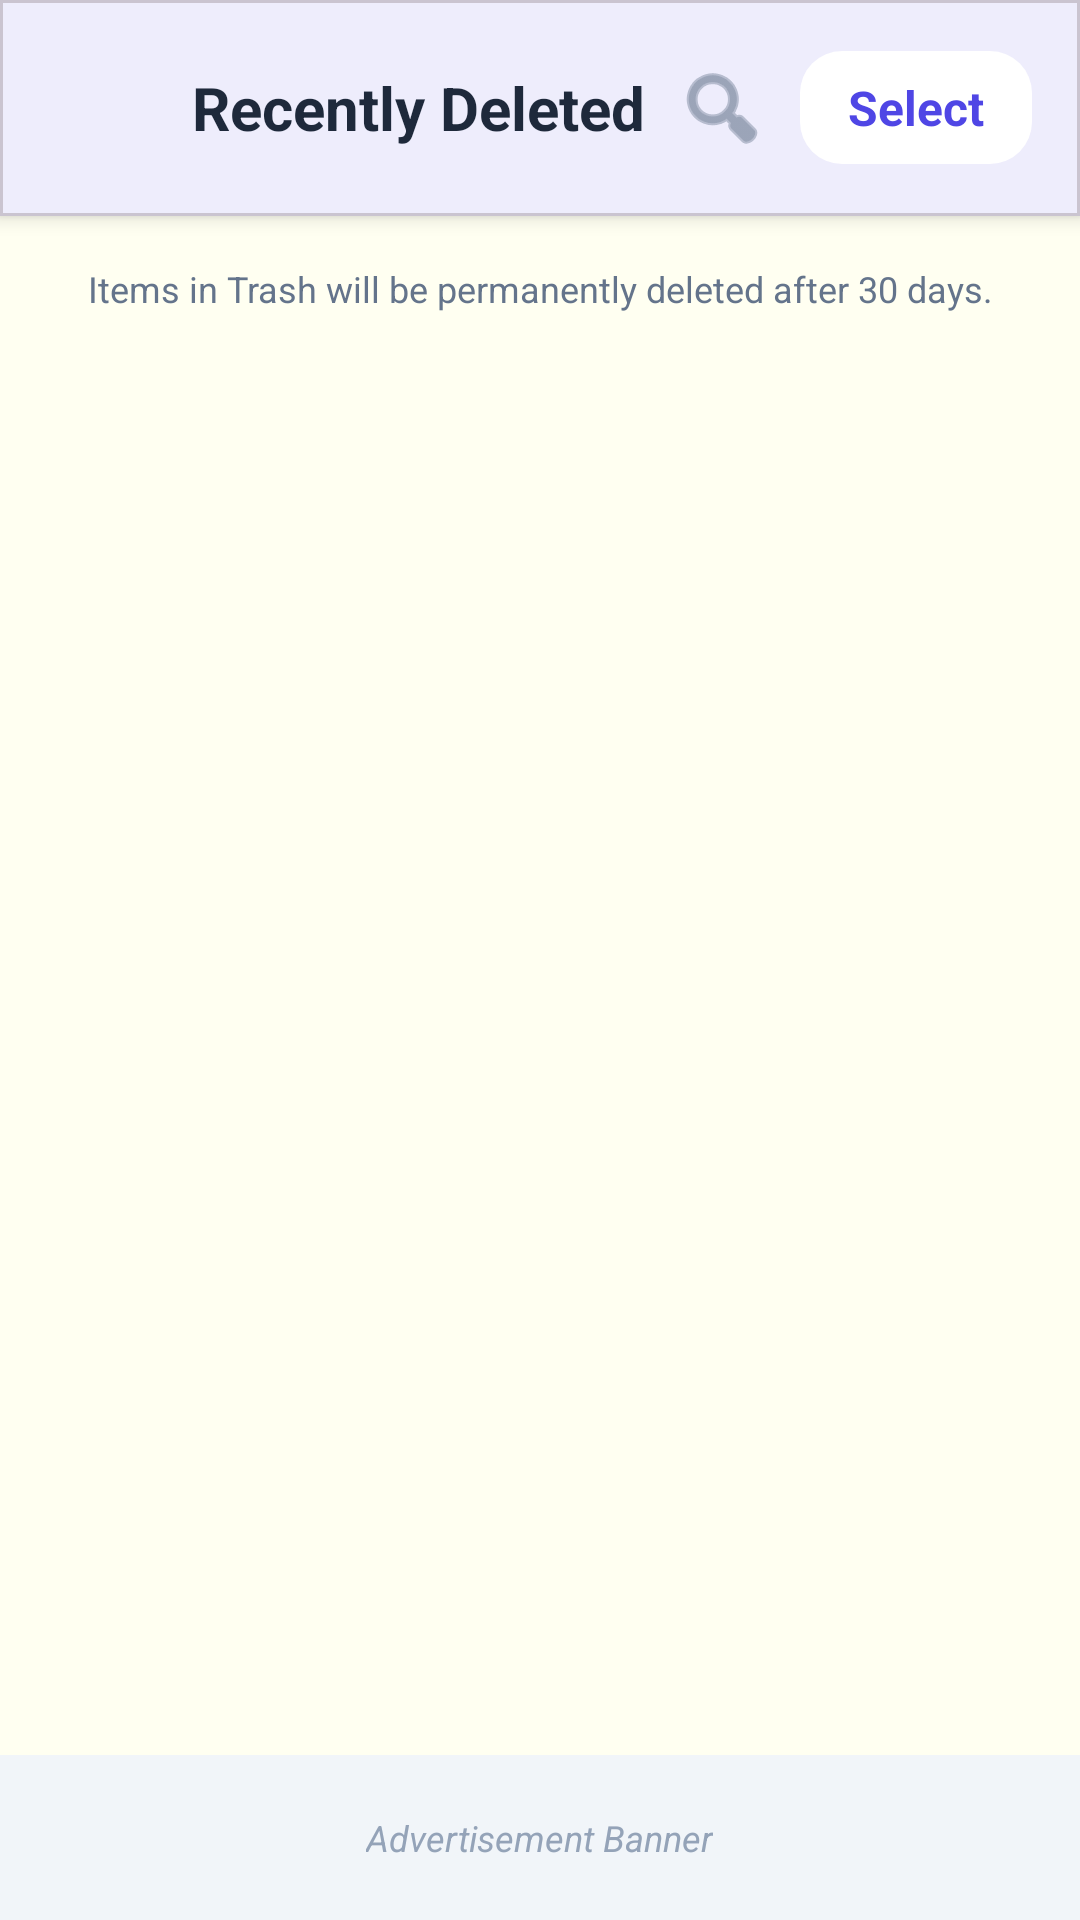

Where to tap for icons on this 1080w x 1920h app screen, as [x,y]:
search: [722,108]
